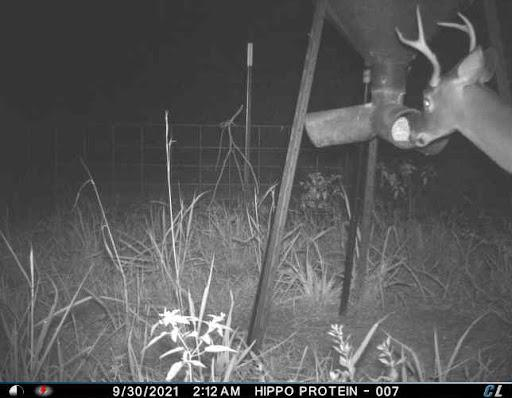Deer: (388, 1, 512, 184)
